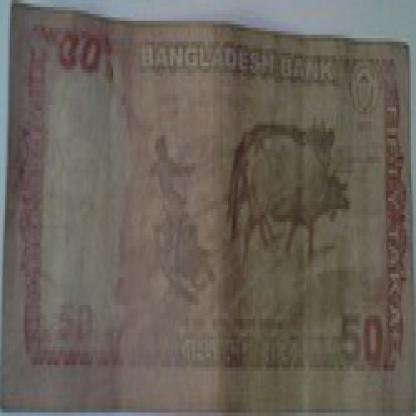Fifty taka: (330, 298, 386, 388), (58, 28, 130, 94)
